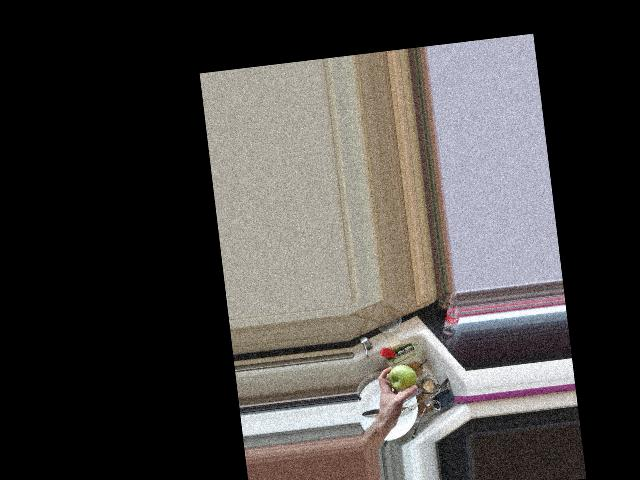apple: (385, 362, 419, 396)
